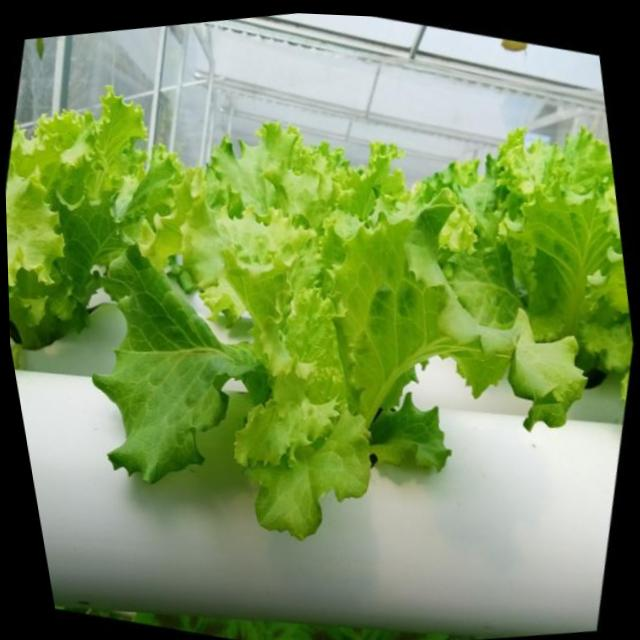Baby: (34, 106, 522, 540)
